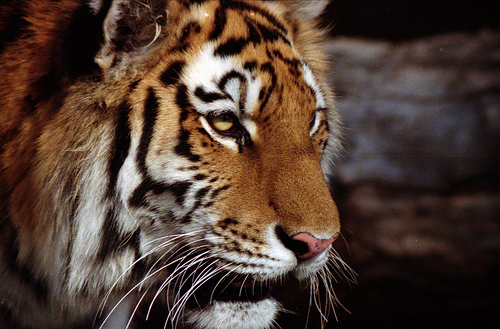Tigre: (54, 6, 356, 318)
